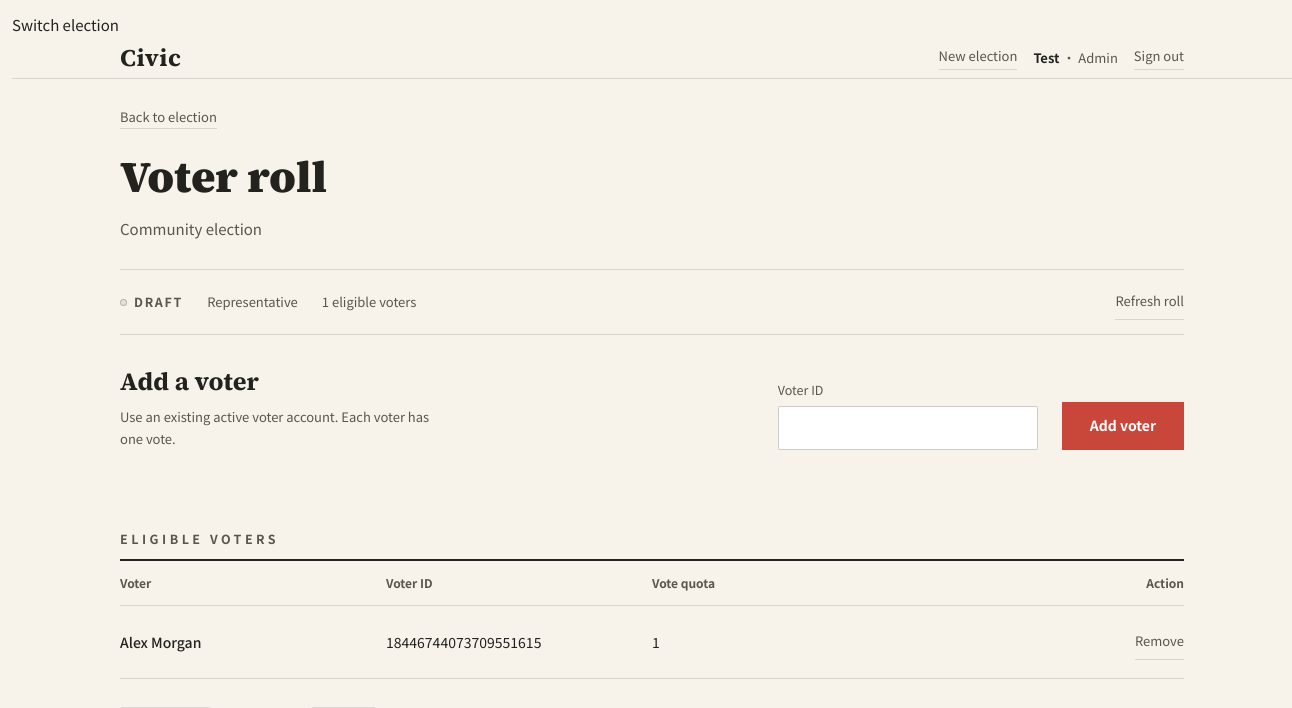
it: voter roll workflow › rejects invalid single voter ID
Click the button "Add voter" at (1123, 426), box [1062,402,1184,450]
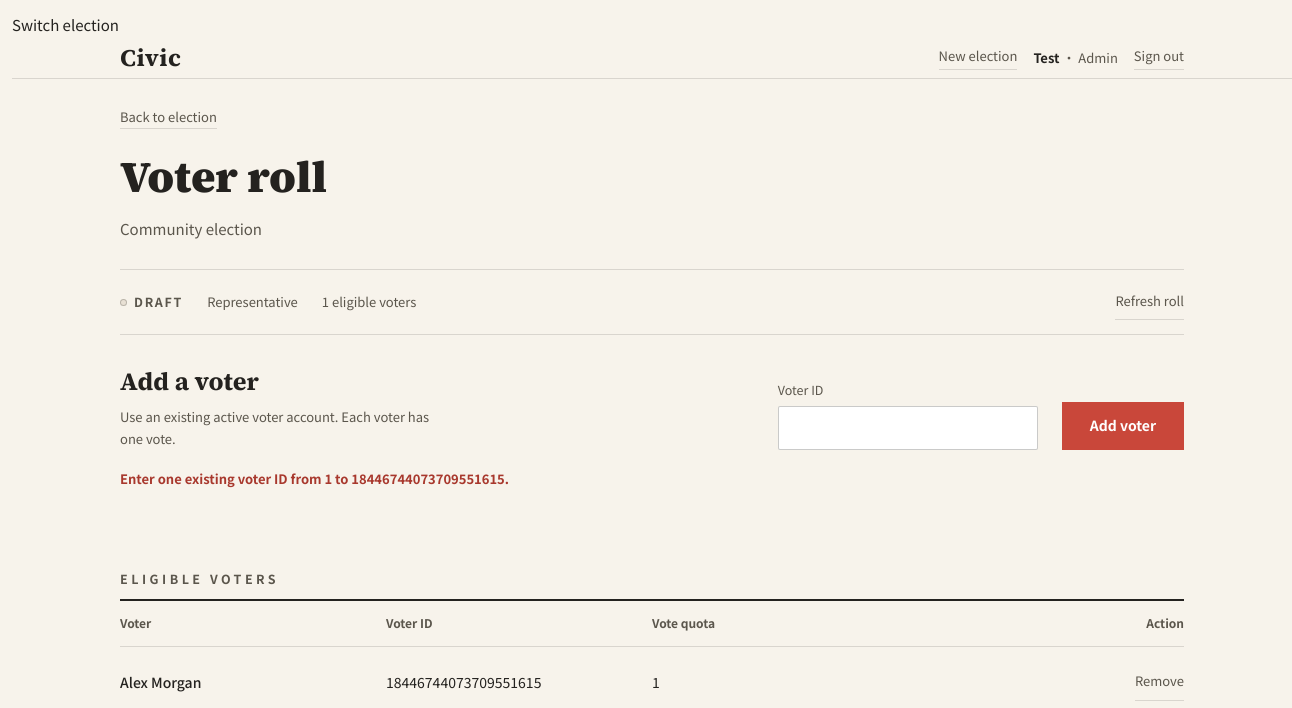
Check: the message shows "Enter one existing voter ID", box [120,469,509,488]
